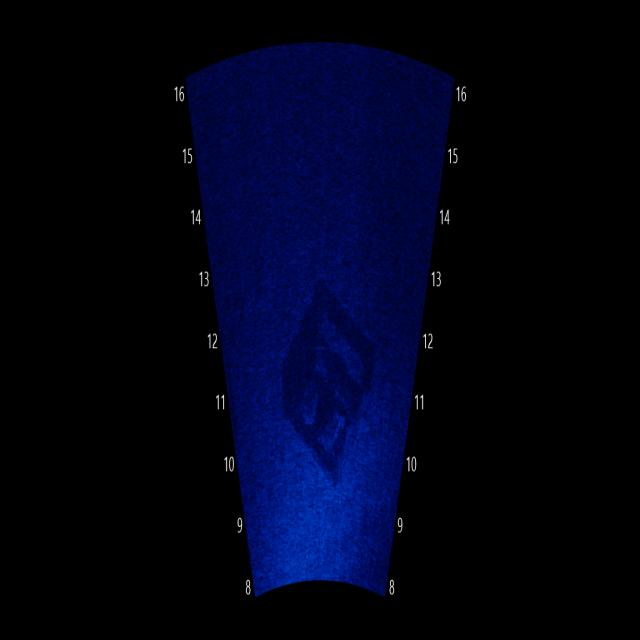square: (266, 252, 386, 505)
